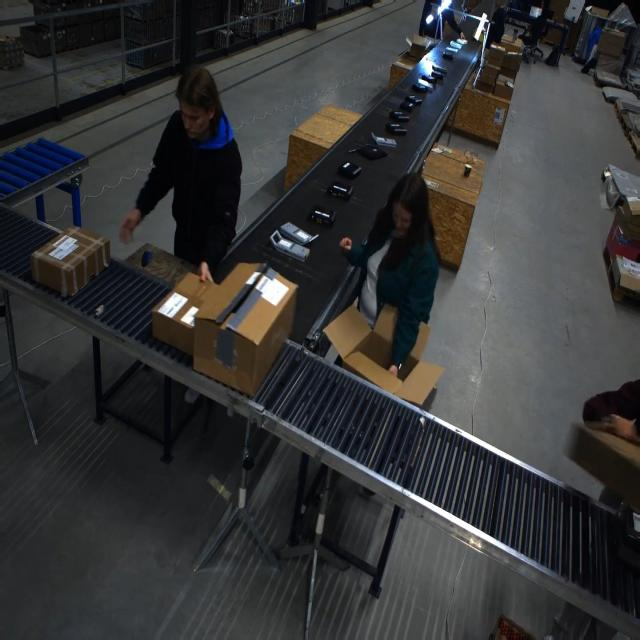box: (191, 264, 297, 395), (328, 302, 439, 403), (29, 228, 110, 298), (149, 273, 215, 355), (407, 32, 432, 59)
product: (263, 230, 318, 267), (277, 215, 320, 247), (322, 179, 359, 204), (367, 131, 400, 154), (307, 207, 334, 226), (336, 162, 362, 180), (356, 145, 385, 161), (386, 124, 407, 135), (389, 111, 409, 122), (411, 82, 429, 93), (406, 95, 423, 105), (431, 69, 445, 80), (420, 74, 435, 84), (442, 49, 455, 59)
